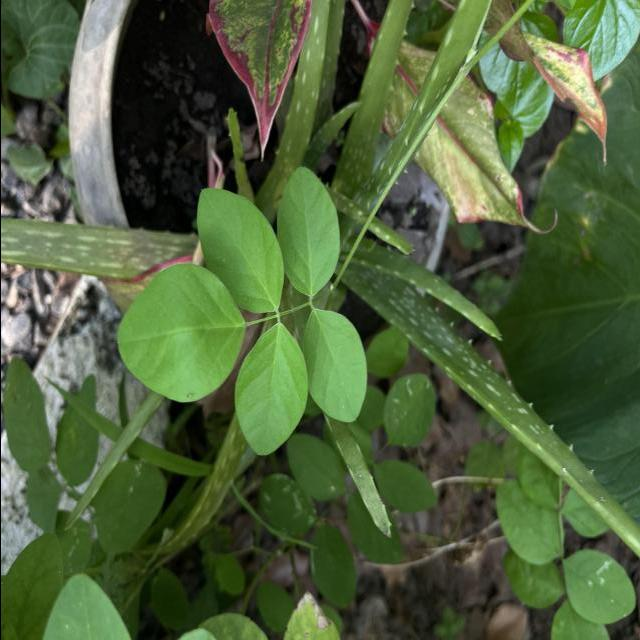Clitoria ternatea: (114, 262, 246, 404), (194, 186, 284, 314), (232, 323, 309, 458), (274, 166, 341, 299), (301, 308, 368, 424)
